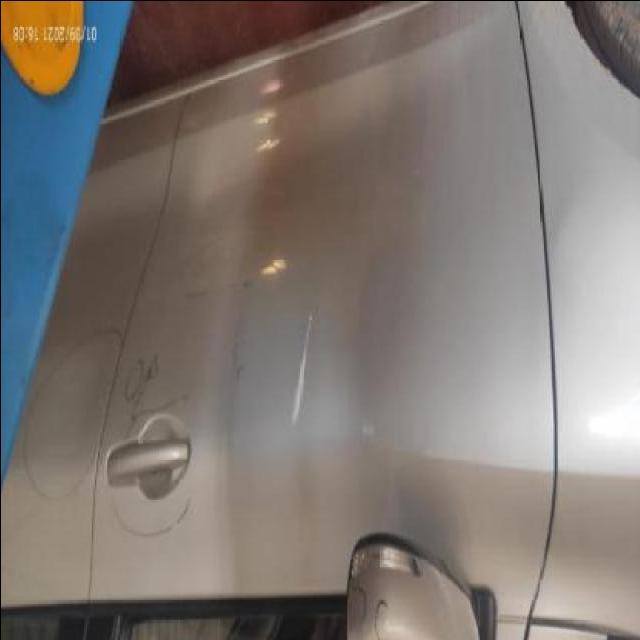doorouter-dent: (168, 55, 492, 593)
